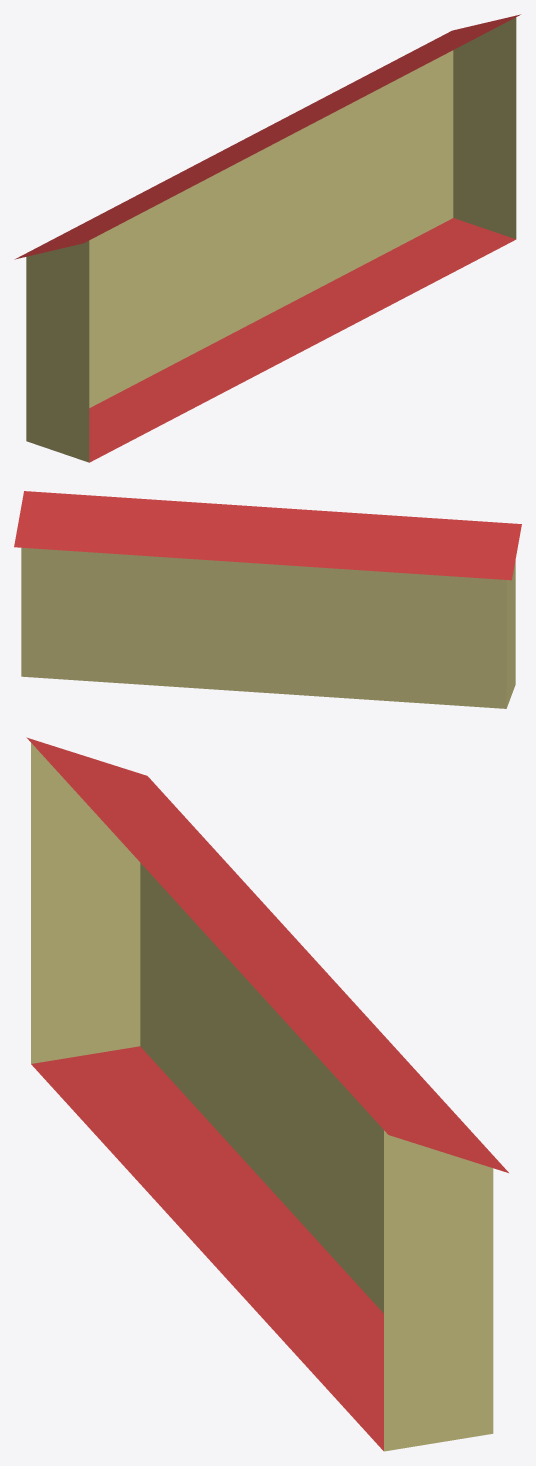
The picture shows the model from 3 angles, top to bottom: view 1: azimuth 30°, elevation 25°; view 2: azimuth 150°, elevation 25°; view 3: azimuth 270°, elevation 25°; orthographic projection. The views are drawn at different scales.
Size of the model in its own units: 19.37 by 9.48 by 6.96.
